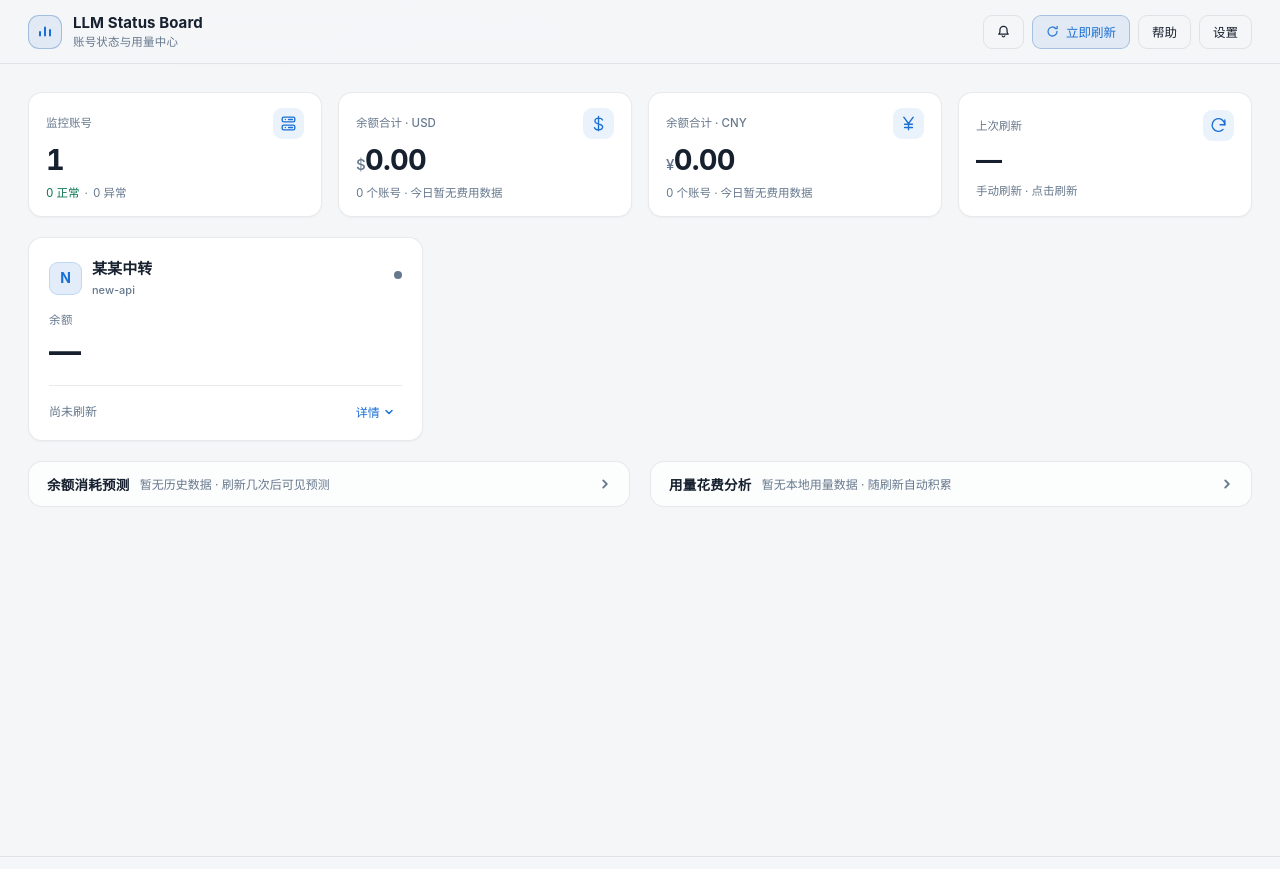
Scenario: App 设置页 › 切换到设置显示账号表格，并可返回看板
This screenshot has width=1280, height=869.
Expected: the text "某某中转" is shown, [92, 258, 152, 281]
Click the button "设置" at (1226, 32), box [1199, 14, 1252, 48]
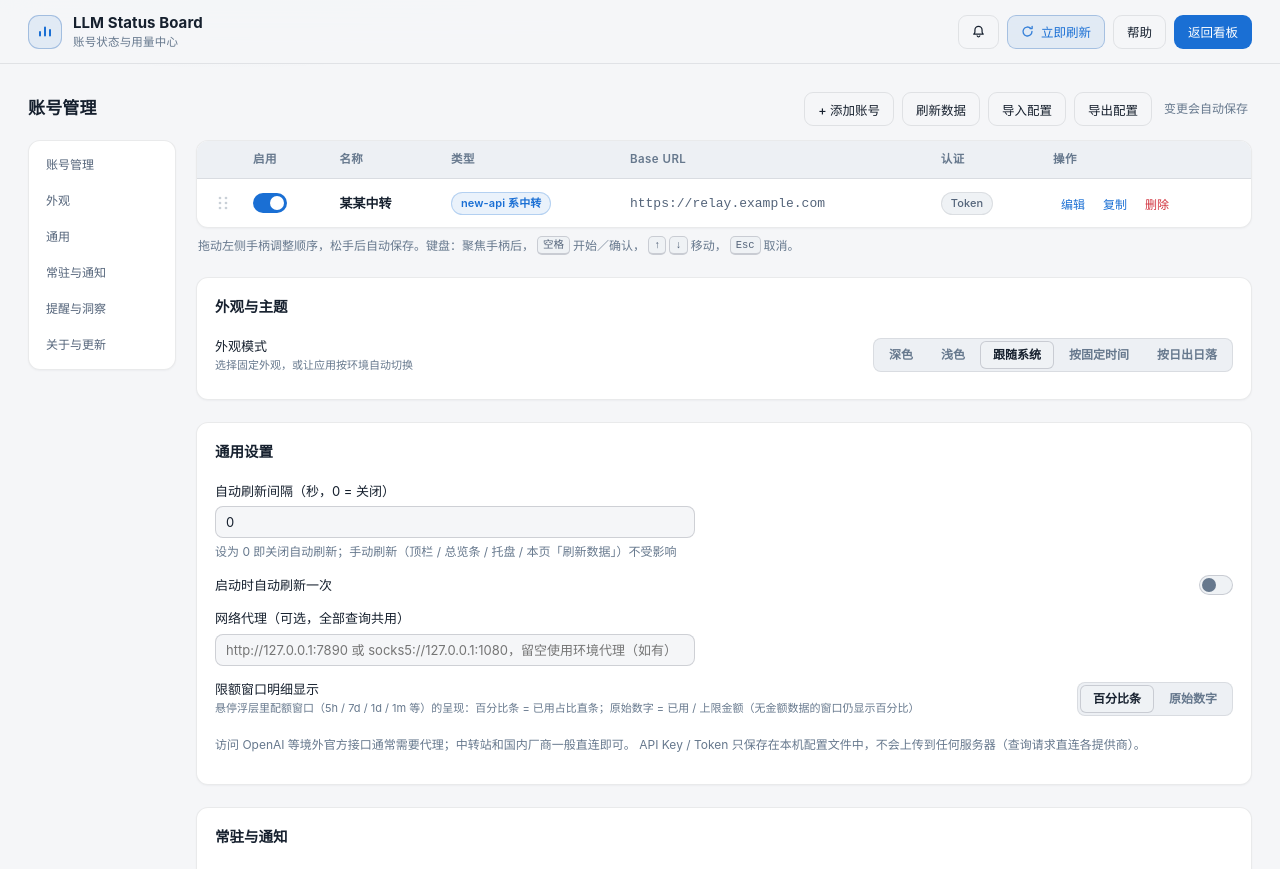
Expected: the heading "账号管理" is shown, [28, 96, 97, 122]
Expected: the text "new-api 系中转" is shown, [451, 192, 551, 214]
Expected: the text "Token" is shown, [941, 192, 993, 214]
Click the button "返回看板" at (1213, 32), box [1174, 14, 1252, 48]
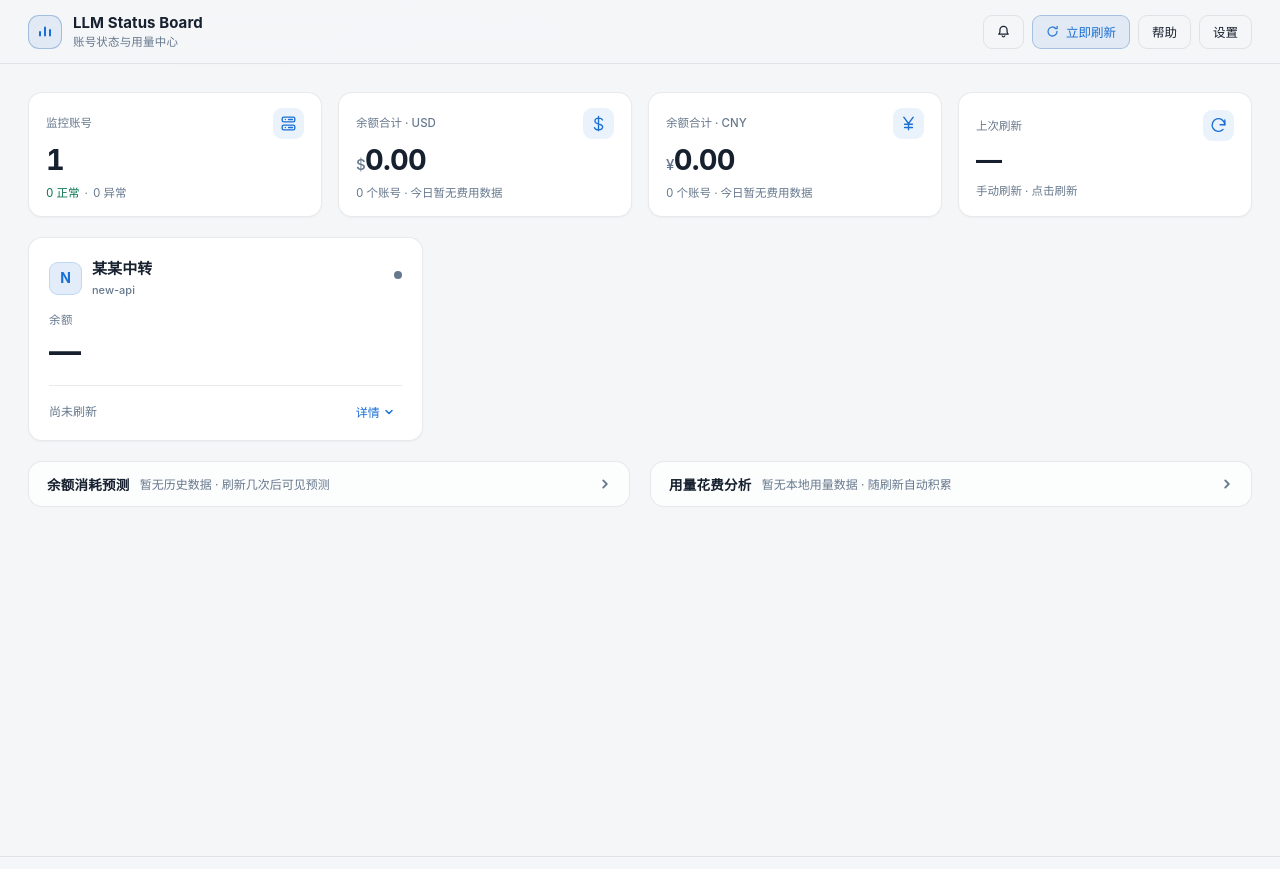
Expected: the heading "账号管理" is gone
